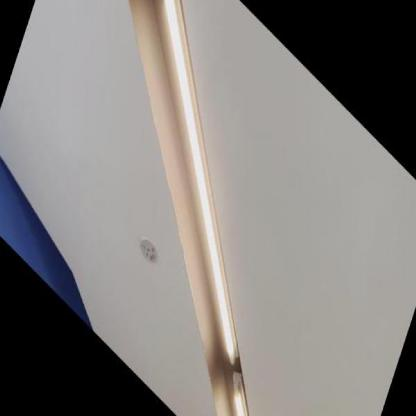light_on: (76, 0, 322, 371), (210, 368, 294, 415)
